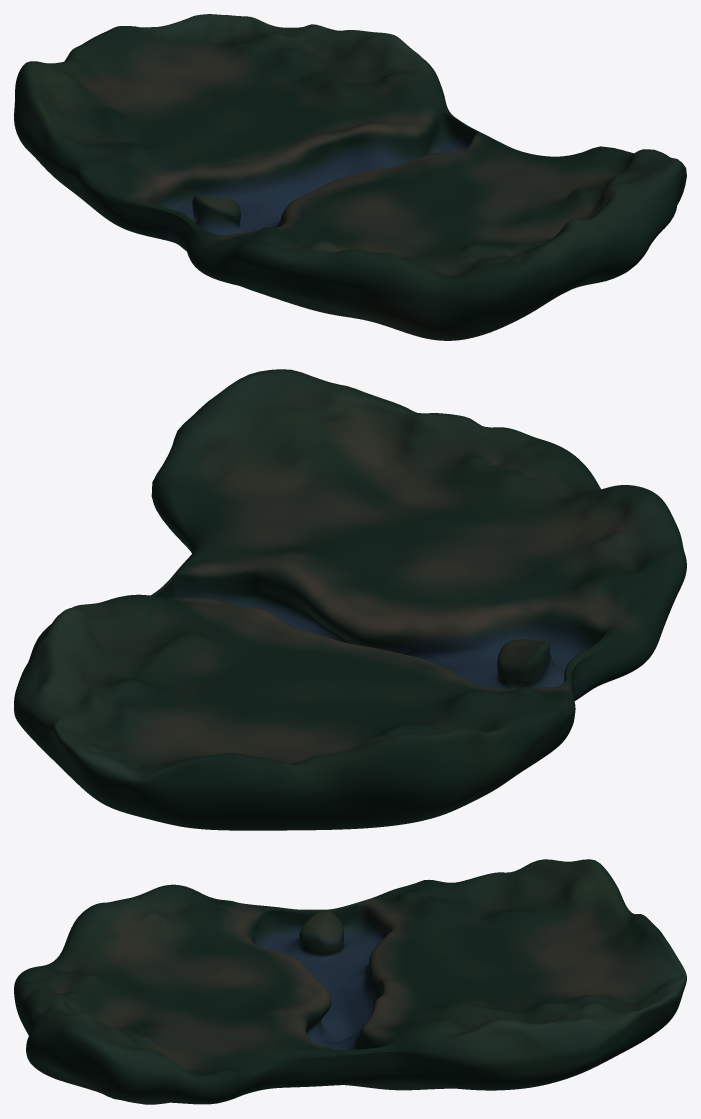
File: Dark_Island.fbx
3 views of the same model, one above another, from view 1: azimuth 30°, elevation 25°; view 2: azimuth 150°, elevation 25°; view 3: azimuth 270°, elevation 25° (orthographic). The views are drawn at different scales.
Visible parts, largest first — view 1: IslandTEST4:Mesh; view 2: IslandTEST4:Mesh; view 3: IslandTEST4:Mesh.
Part boxes in pixels (x1,y1,x2,y2): IslandTEST4:Mesh: (14,14,686,340); IslandTEST4:Mesh: (14,369,686,830); IslandTEST4:Mesh: (14,859,686,1104).
Bounding box in the file's own units: 176 × 50.12 × 240.
